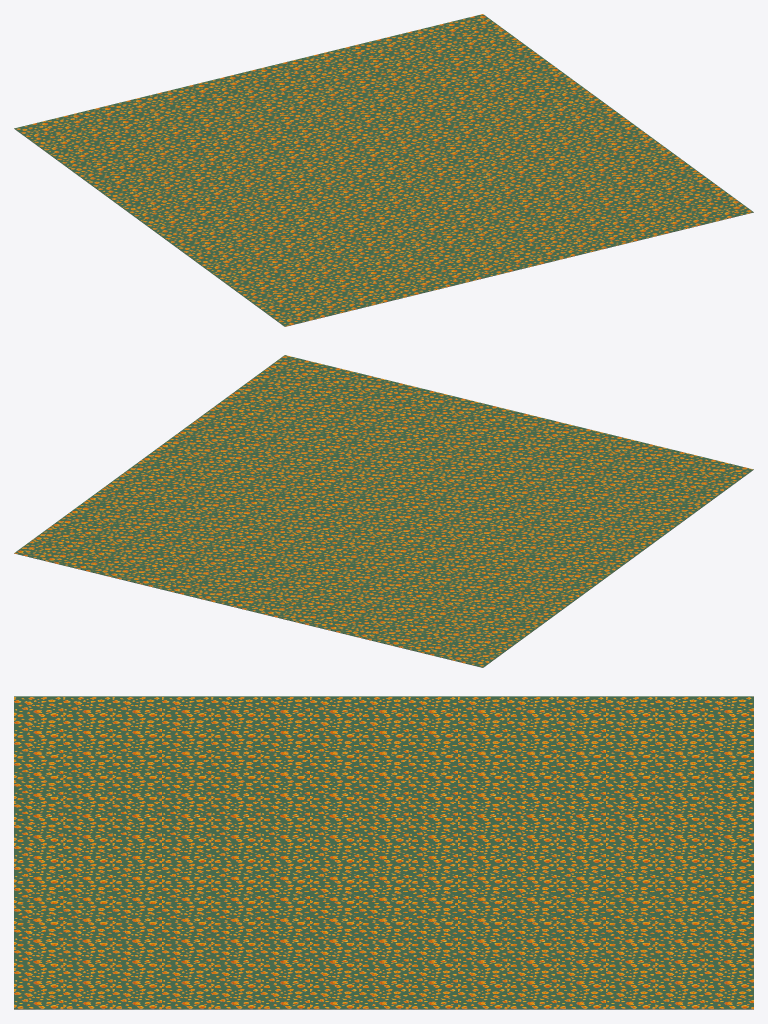
The model's file is Piso.obj.
The picture shows the model from 3 angles, top to bottom: view 1: azimuth 30°, elevation 25°; view 2: azimuth 150°, elevation 25°; view 3: azimuth 270°, elevation 25°; orthographic projection. The views are drawn at different scales.
Visible parts, largest first — view 1: PlanePetalos, Plane001; view 2: PlanePetalos, Plane001; view 3: PlanePetalos, Plane001.
Boxes of the visible parts, x1,y1,x2,y2 form: PlanePetalos: (14, 14, 753, 326); Plane001: (15, 129, 753, 326); PlanePetalos: (14, 355, 753, 667); Plane001: (14, 470, 752, 667); PlanePetalos: (14, 696, 753, 1009); Plane001: (14, 1009, 753, 1009).
Size of the model in its own units: 2000 by 1 by 2000.
Materials: 2 (2 with a texture image).
